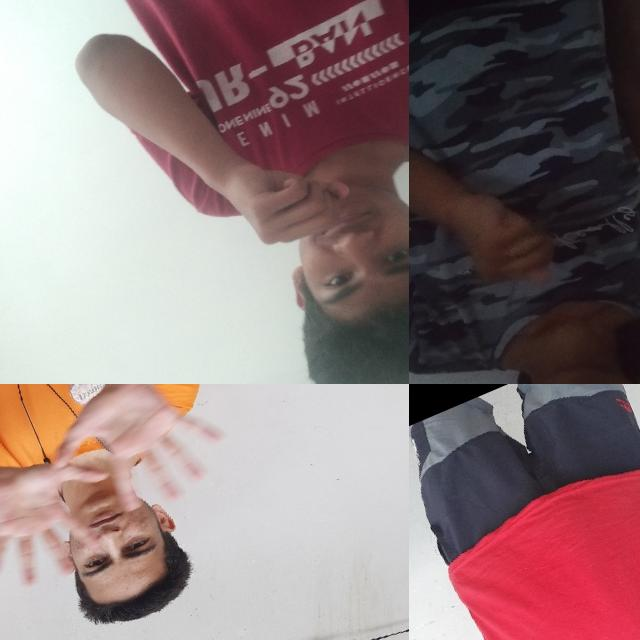Dulya: (436, 163, 568, 308)
Fist Mouth: (178, 58, 409, 384)
Moutza: (26, 384, 254, 546), (0, 426, 145, 618)
